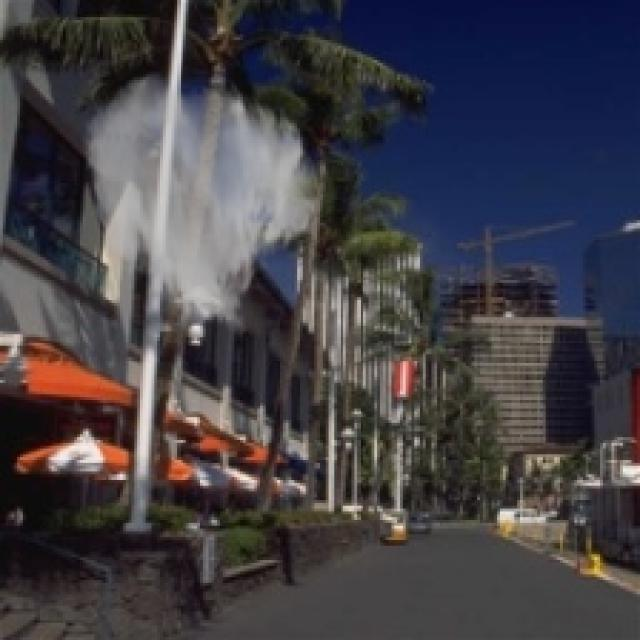smoke: (83, 69, 323, 340)
